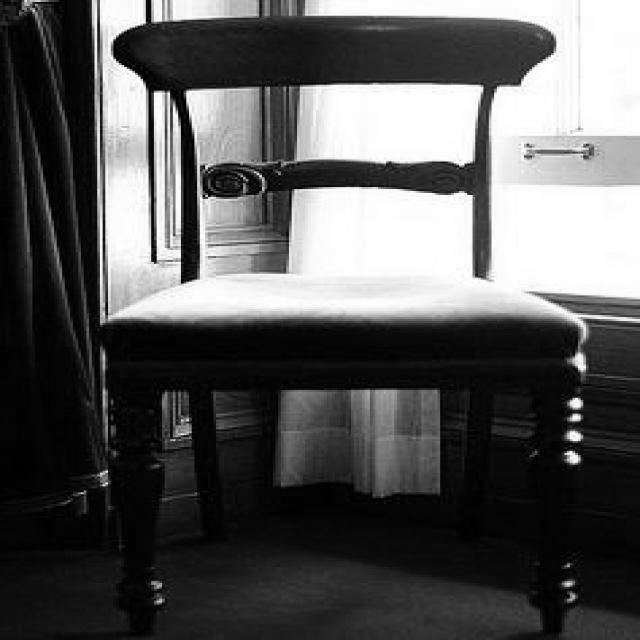chair: (95, 13, 587, 640)
